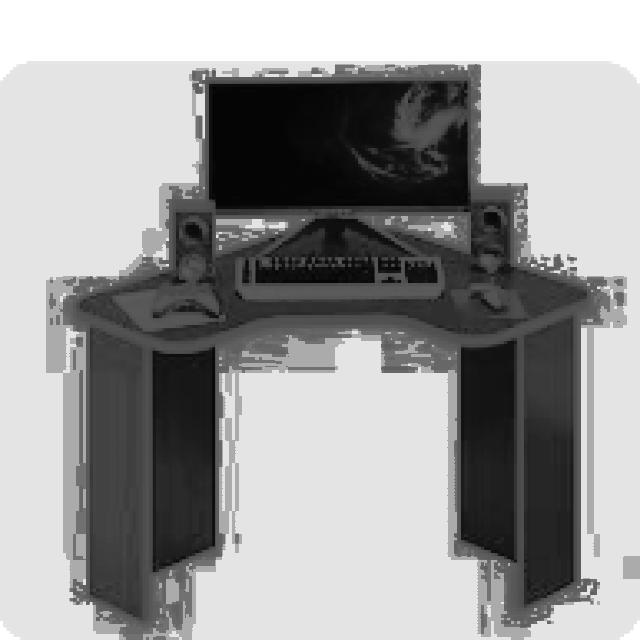table: (73, 222, 590, 621)
